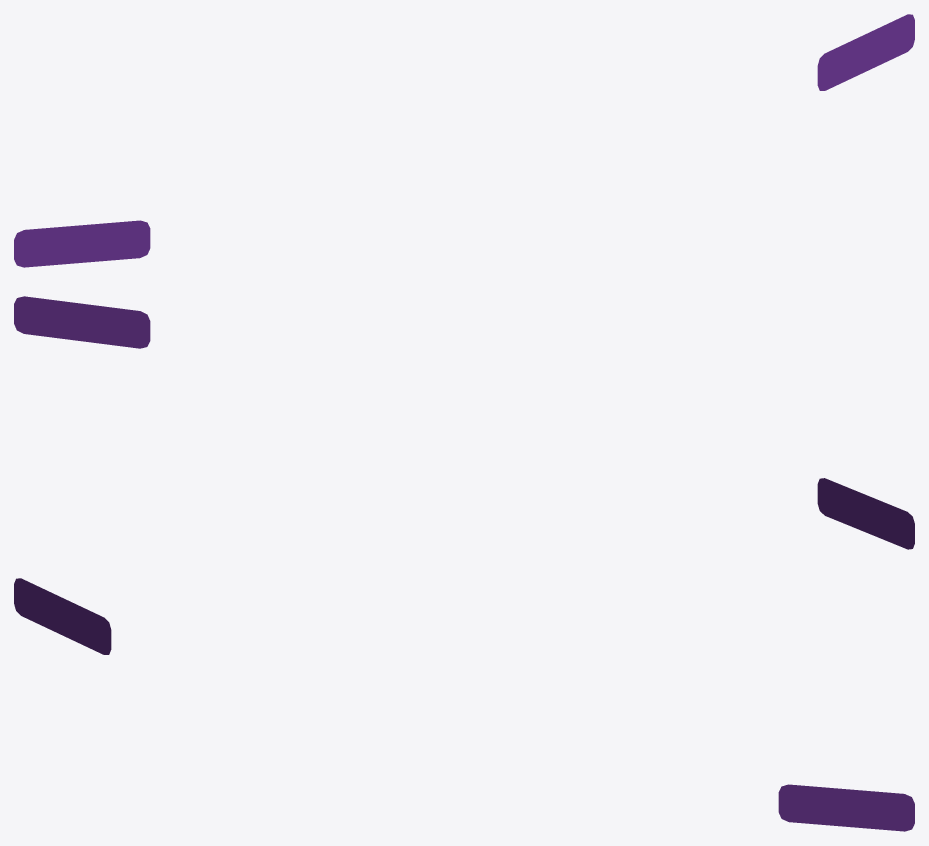
File: Supra_FrontBar_01_Detail.fbx
3 renders of one model, top to bottom at view 1: azimuth 30°, elevation 25°; view 2: azimuth 150°, elevation 25°; view 3: azimuth 330°, elevation 25°, orthographic.
Parts seen in each view (by area): view 1: Supra_FrontBar_01_Detail; view 2: Supra_FrontBar_01_Detail; view 3: Supra_FrontBar_01_Detail.
Part boxes in pixels (x1,y1,x2,y2): Supra_FrontBar_01_Detail: (14,14,914,267); Supra_FrontBar_01_Detail: (14,296,914,549); Supra_FrontBar_01_Detail: (14,578,914,831).
Bounding box in the file's own units: 136 × 5.81 × 5.11.
